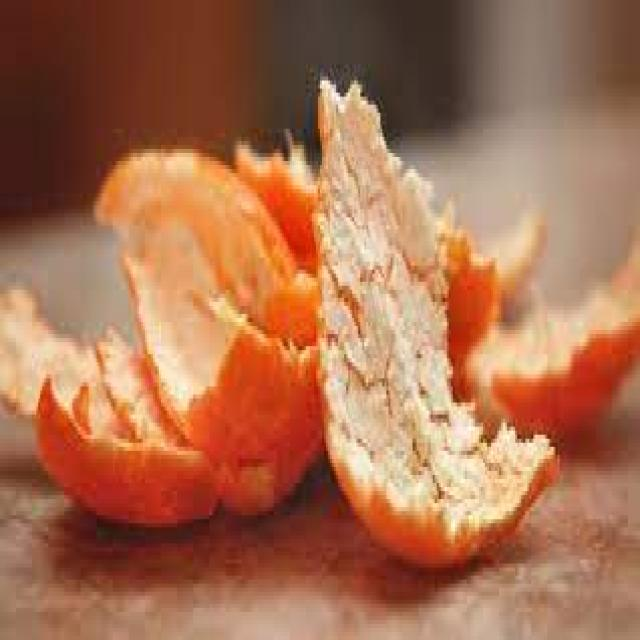Organik: (306, 61, 566, 577), (42, 135, 325, 536), (472, 187, 636, 461)
